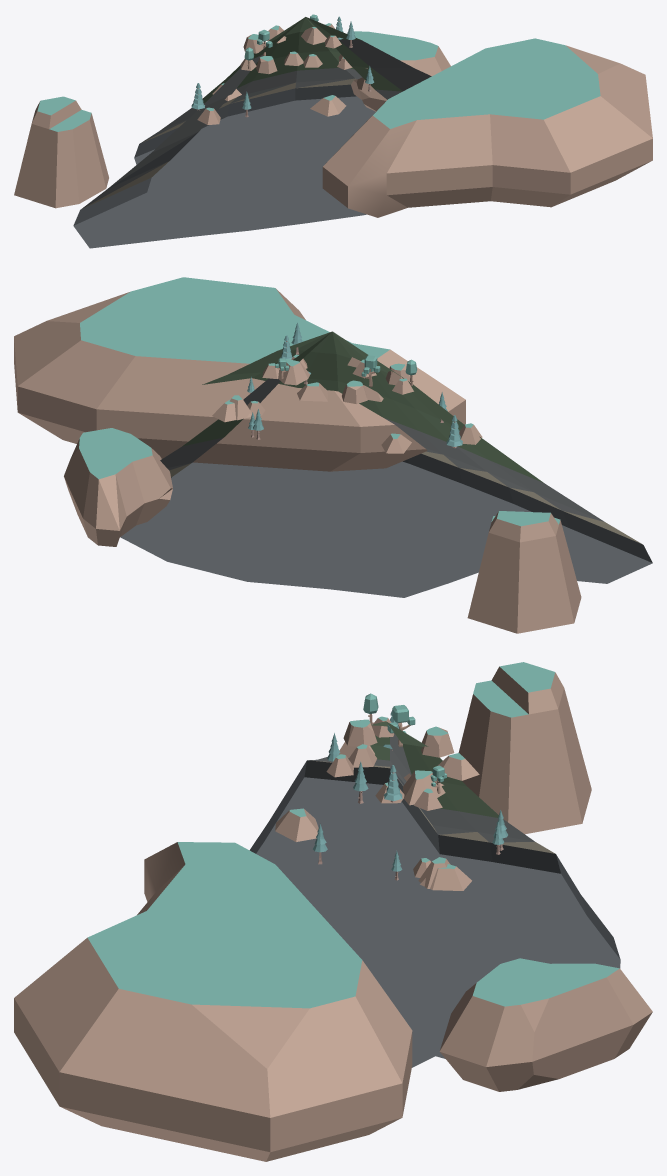
The model's file is ring_of_thorns_lod0.glb.
3 views of the same model, one above another, from view 1: azimuth 30°, elevation 25°; view 2: azimuth 150°, elevation 25°; view 3: azimuth 270°, elevation 25° (orthographic). The views are drawn at different scales.
Size of the model in its own units: 3.6 by 1 by 2.31.
